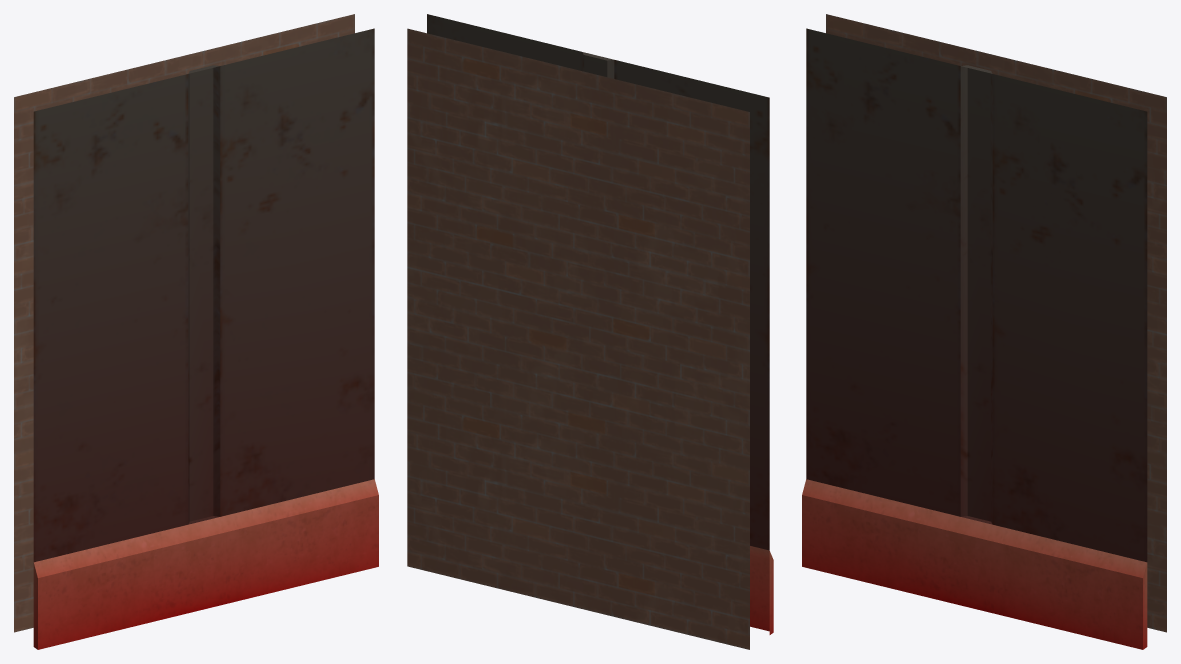
The model's file is metal_firstfloor_wall.glb.
The picture shows the model from 3 angles, left to right: view 1: azimuth 30°, elevation 25°; view 2: azimuth 150°, elevation 25°; view 3: azimuth 330°, elevation 25°; orthographic projection.
Parts seen in each view (by area): view 1: Metal_FirstFloor_Wall; view 2: Metal_FirstFloor_Wall; view 3: Metal_FirstFloor_Wall.
Boxes of the visible parts, bbox=[...] form: Metal_FirstFloor_Wall: bbox=[14, 14, 378, 649]; Metal_FirstFloor_Wall: bbox=[407, 14, 773, 649]; Metal_FirstFloor_Wall: bbox=[802, 14, 1166, 649].
Size of the model in its own units: 2 by 3 by 0.242.
3 materials, 3 textured.
